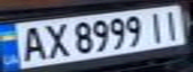8: (69, 18, 93, 55)
9: (106, 15, 130, 51), (124, 12, 148, 47), (90, 17, 112, 53)
A: (15, 24, 48, 63)
I: (157, 7, 187, 40), (145, 9, 172, 43)
X: (39, 20, 72, 60)
